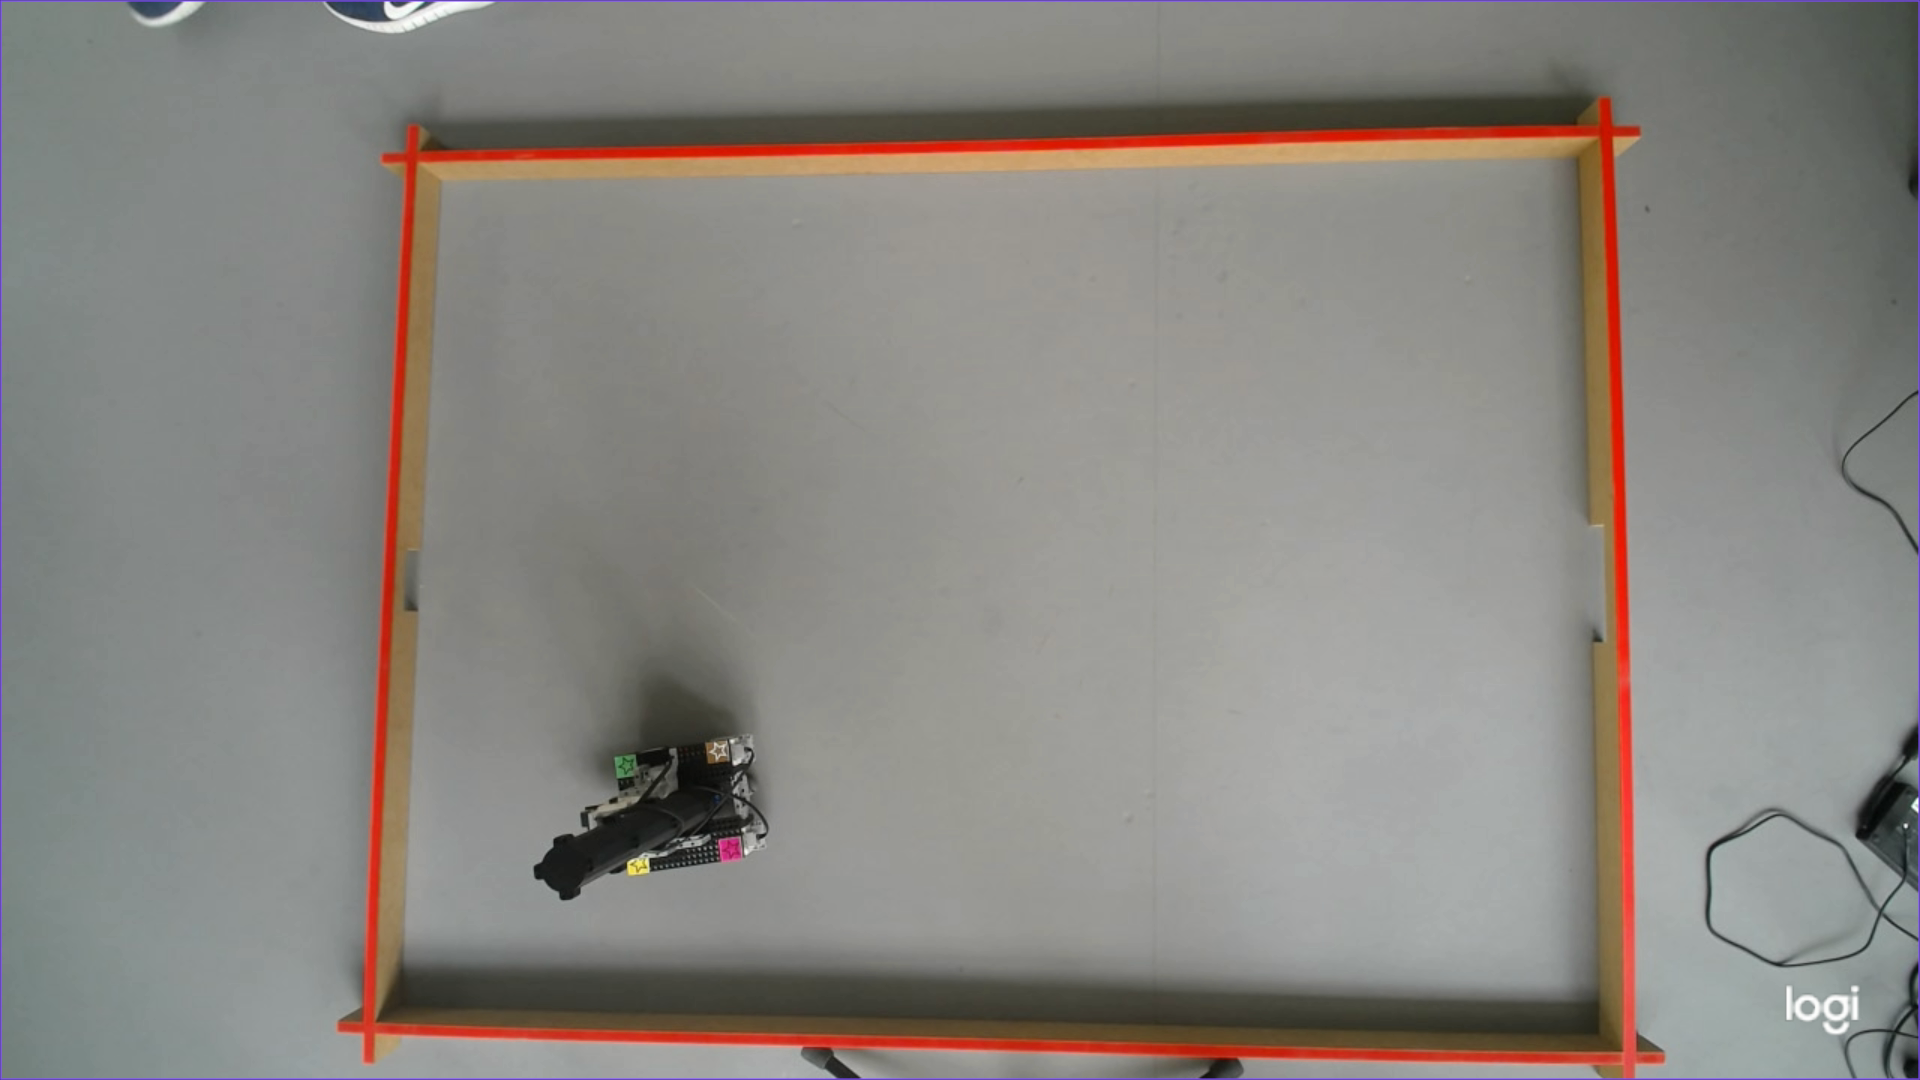corner_brown: (707, 741, 729, 761)
corner_green: (615, 756, 637, 775)
corner_pink: (715, 839, 742, 858)
corner_yellow: (628, 861, 650, 877)
playfield_corner: (1582, 108, 1635, 156), (388, 133, 440, 181), (1604, 1033, 1656, 1080), (342, 1004, 393, 1051)
